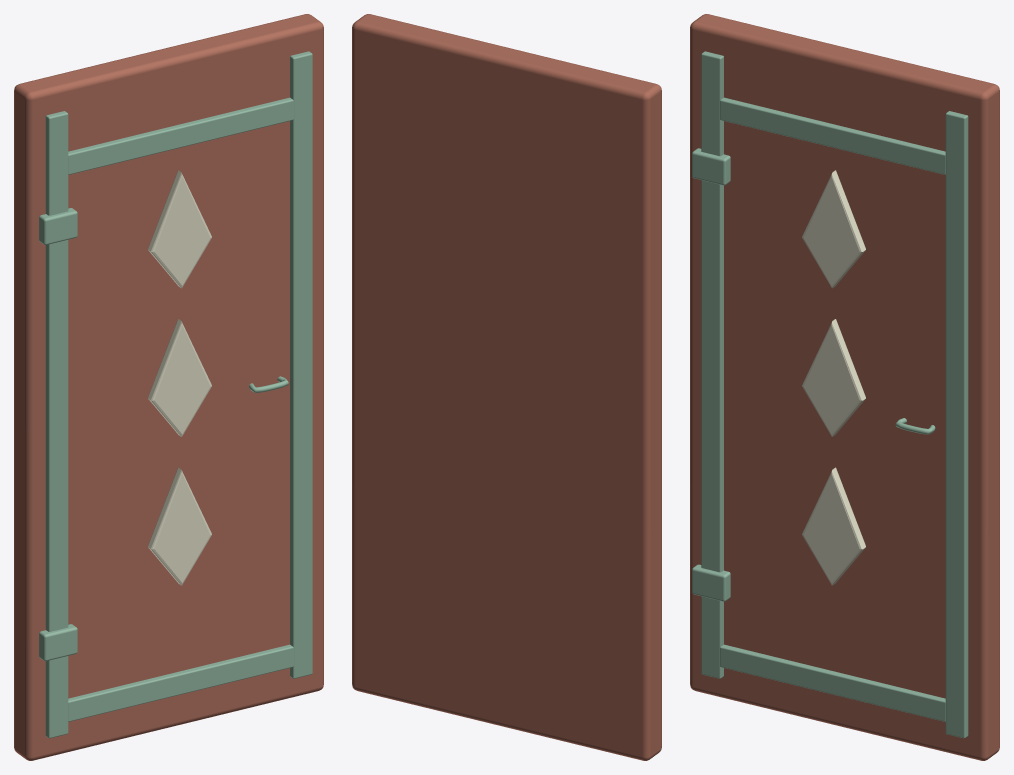
The model's file is enchanted-harp-garden-and-music-sanctuary-pavilion-ent-26c8a0ff__30394.glb.
3 views of the same model, side by side, from view 1: azimuth 30°, elevation 25°; view 2: azimuth 150°, elevation 25°; view 3: azimuth 330°, elevation 25° (orthographic).
Parts seen in each view (by area): view 1: pavilion-entry-door; view 2: pavilion-entry-door; view 3: pavilion-entry-door.
Boxes of the visible parts, x1,y1,x2,y2 form: pavilion-entry-door: (14, 14, 323, 760); pavilion-entry-door: (352, 14, 661, 760); pavilion-entry-door: (690, 14, 999, 760).
Size of the model in its own units: 1.05 by 2.25 by 0.1679.
